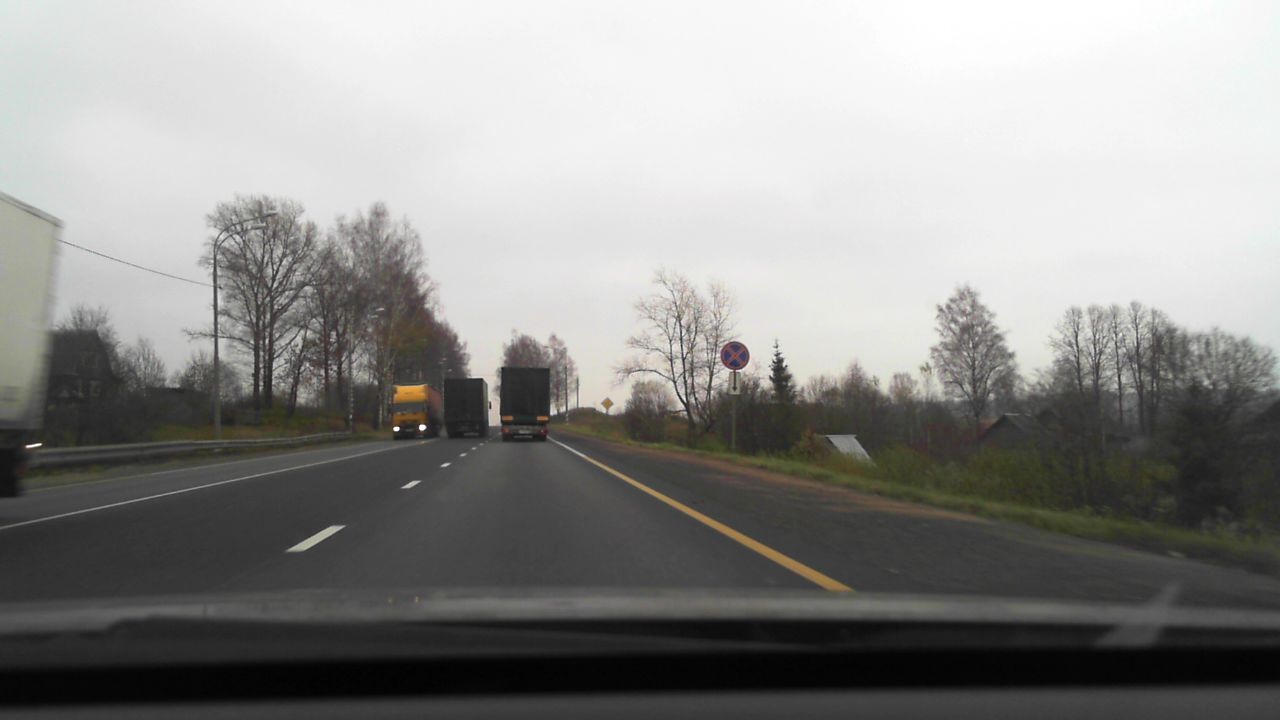No Parking: (720, 341, 749, 370)
